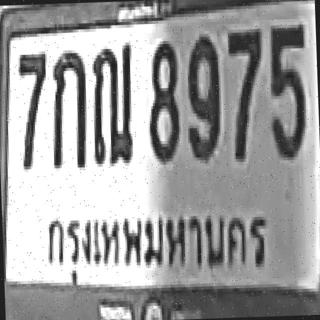A01: (48, 47, 86, 168)
A19: (88, 41, 134, 165)
N05: (267, 21, 307, 158)
N07: (226, 26, 264, 156), (17, 51, 50, 170)
N08: (145, 38, 180, 162)
N09: (184, 34, 219, 158)
P04: (41, 200, 272, 292)
